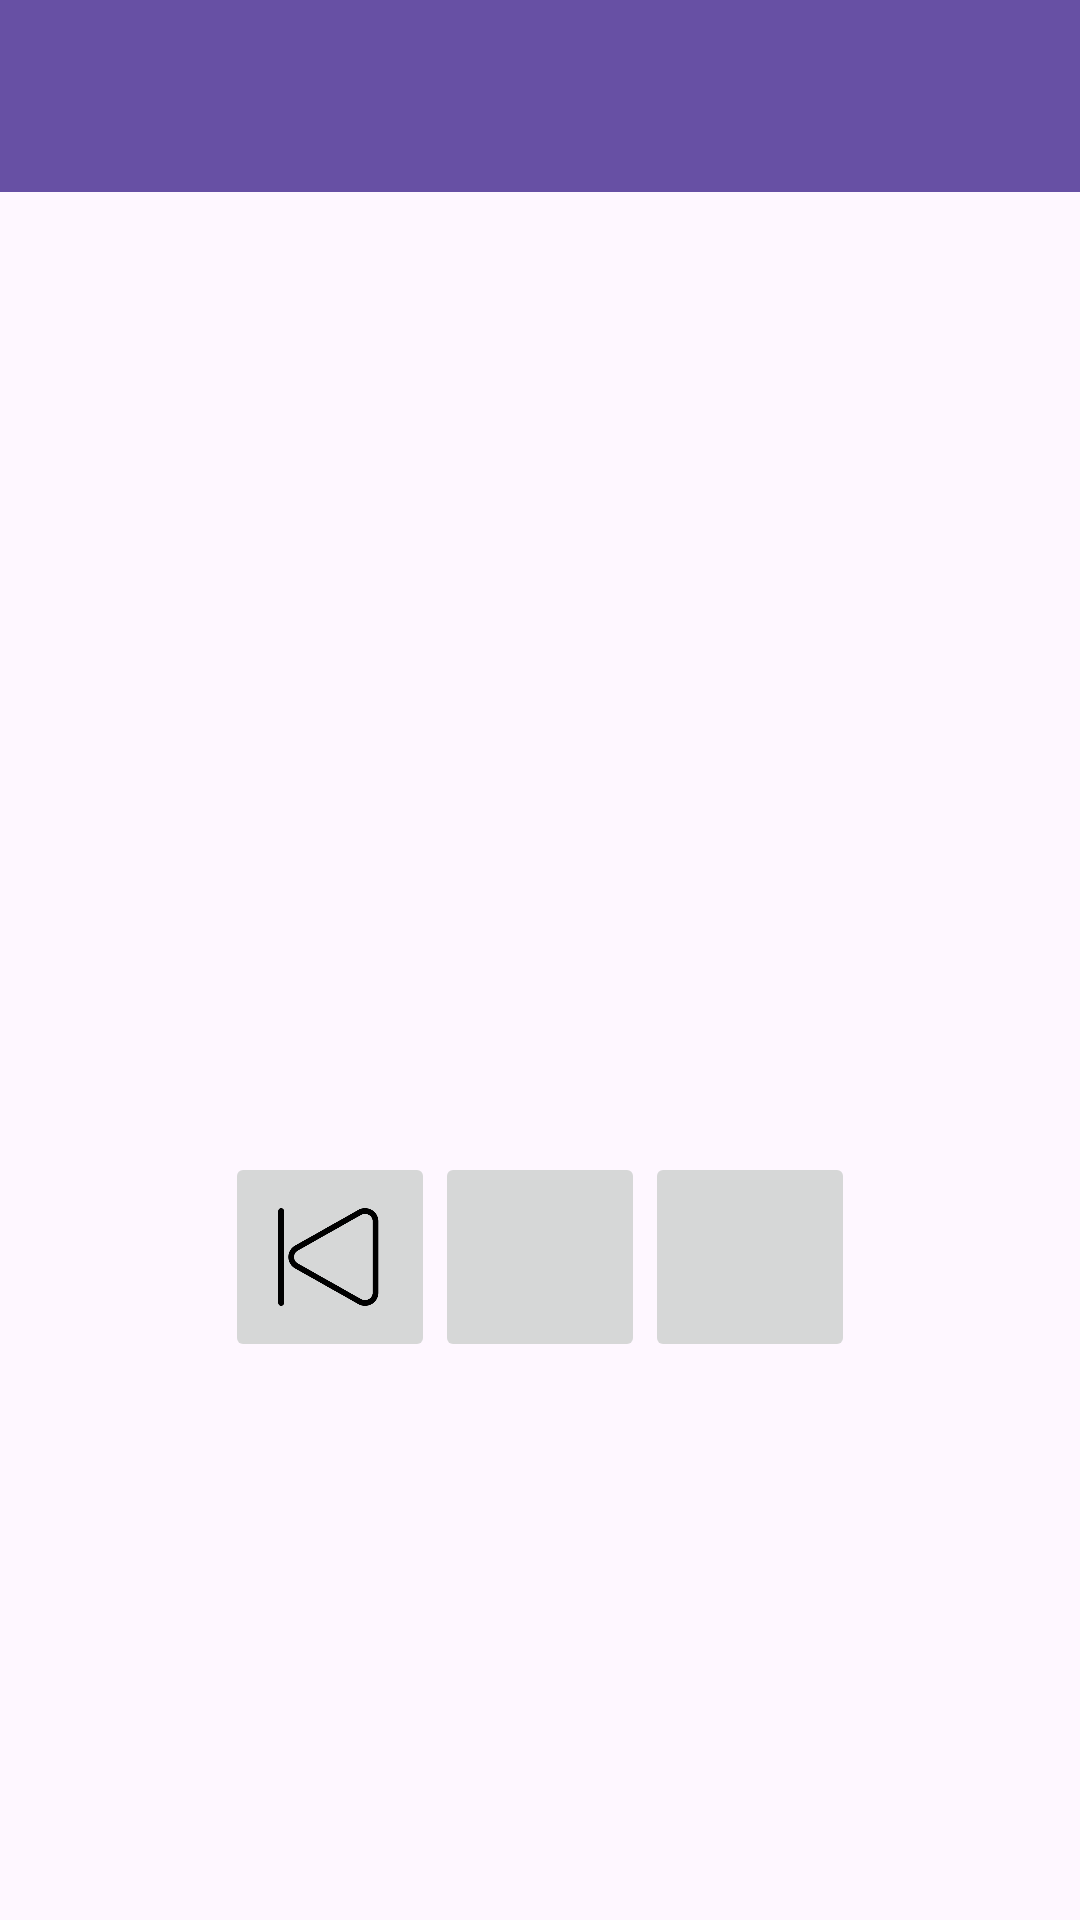

Named icons in this screenshot (1080 x 1920) and their centers, [x,y]:
Previous Image: [330,1257]
